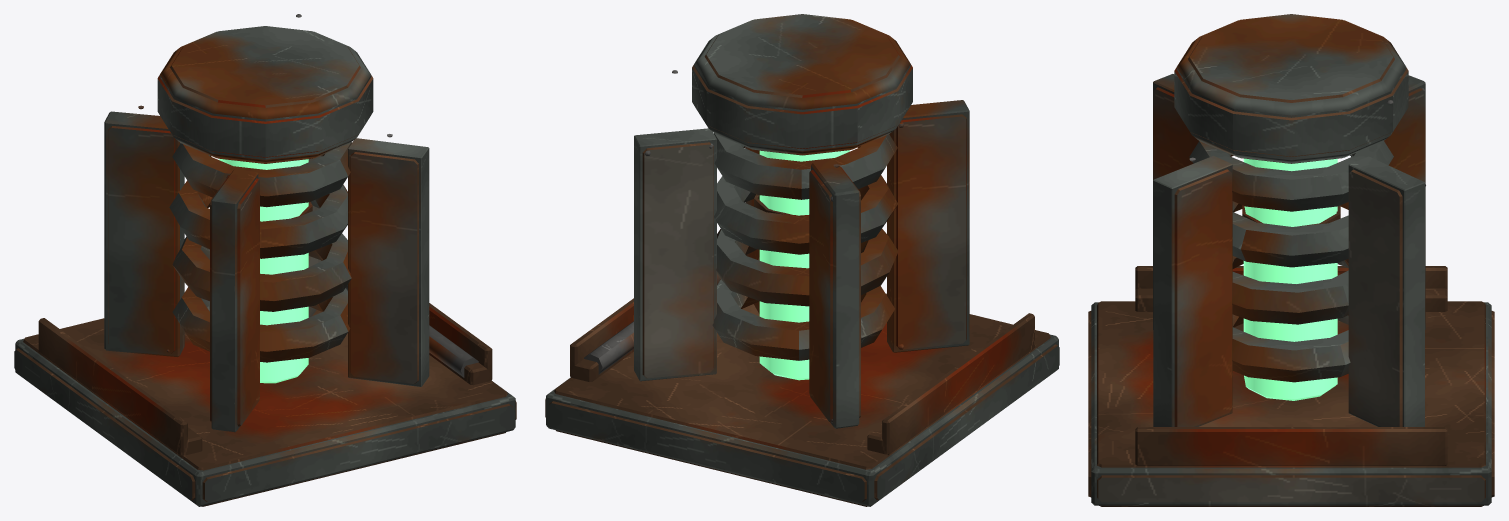
The model's file is R4X_EnergyRegenerator.glb.
3 views of the same model, side by side, from view 1: azimuth 30°, elevation 25°; view 2: azimuth 150°, elevation 25°; view 3: azimuth 270°, elevation 25° (orthographic). The views are drawn at different scales.
Visible parts, largest first — view 1: R4X_EnergyRegenerator_Body; view 2: R4X_EnergyRegenerator_Body; view 3: R4X_EnergyRegenerator_Body.
Boxes of the visible parts, box(x1,y1,x2,y2) form: R4X_EnergyRegenerator_Body: box(14, 14, 516, 506); R4X_EnergyRegenerator_Body: box(545, 14, 1059, 506); R4X_EnergyRegenerator_Body: box(1088, 14, 1494, 506).
Size of the model in its own units: 0.52 by 0.52 by 0.52.
5 materials, 4 textured.
